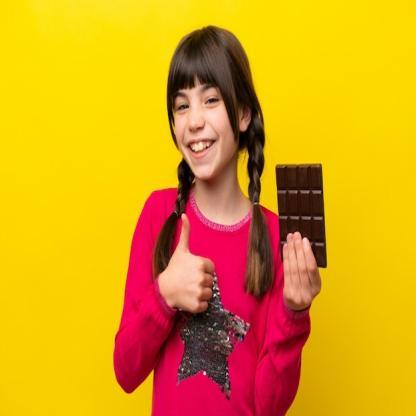thumb_up: (164, 210, 216, 317)
